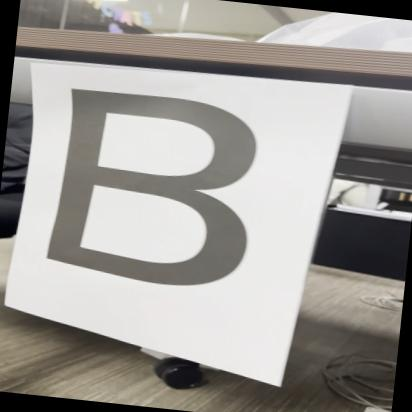seat: (31, 77, 272, 304)
